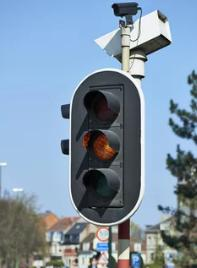yellow_light: (69, 69, 144, 226)
